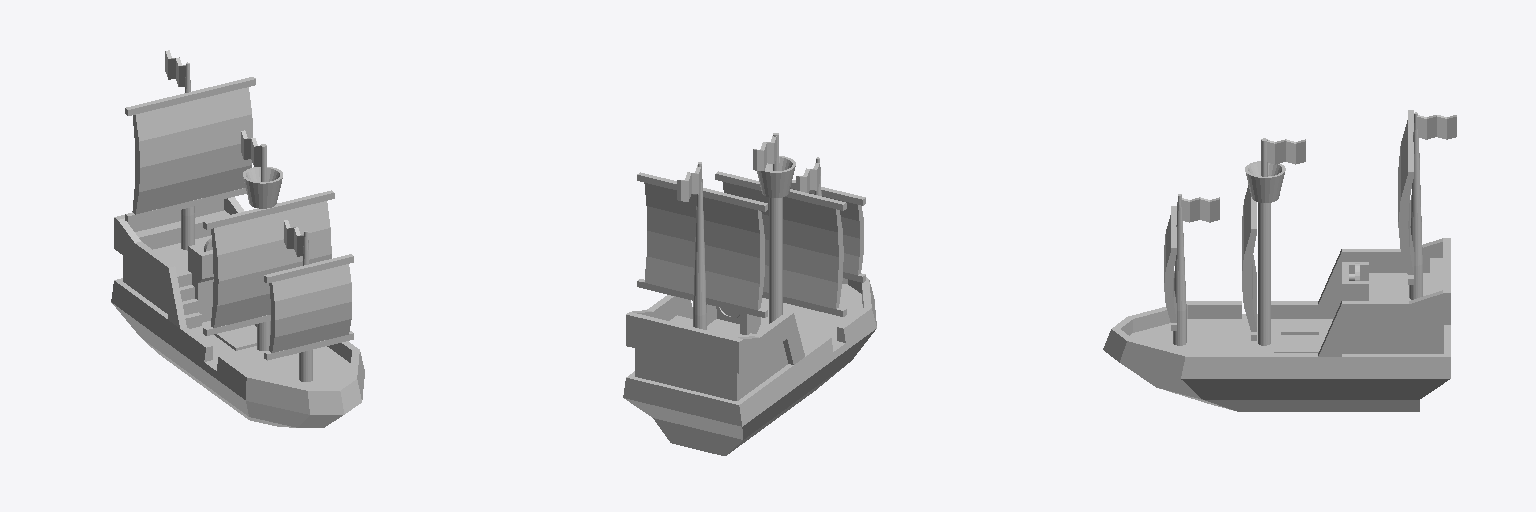
The model's file is boat_level6.obj.
3 views of the same model, side by side, from view 1: azimuth 30°, elevation 25°; view 2: azimuth 150°, elevation 25°; view 3: azimuth 270°, elevation 25° (orthographic).
Visible parts, largest first — view 1: Mesh22_Group12_Group1_Model, Mesh15_Group17_Group12_Group1_Model, Mesh12_Group14_Group12_Group1_Model, Mesh19_Group21_Group12_Group1_Model, Mesh16_Group18_Group12_Group1_Model, Mesh14_Group16_Group12_Group1_Model, Mesh20_Group22_Group12_Group1_Model, Mesh13_Group15_Group12_Group1_Model; view 2: Mesh22_Group12_Group1_Model, Mesh15_Group17_Group12_Group1_Model, Mesh12_Group14_Group12_Group1_Model, Mesh19_Group21_Group12_Group1_Model, Mesh13_Group15_Group12_Group1_Model, Mesh14_Group16_Group12_Group1_Model, Mesh16_Group18_Group12_Group1_Model, Mesh18_Group20_Group12_Group1_Model, Mesh17_Group19_Group12_Group1_Model; view 3: Mesh22_Group12_Group1_Model, Mesh13_Group15_Group12_Group1_Model, Mesh15_Group17_Group12_Group1_Model, Mesh12_Group14_Group12_Group1_Model, Mesh14_Group16_Group12_Group1_Model, Mesh20_Group22_Group12_Group1_Model, Mesh16_Group18_Group12_Group1_Model, Mesh19_Group21_Group12_Group1_Model, Mesh18_Group20_Group12_Group1_Model, Mesh17_Group19_Group12_Group1_Model, Mesh21_Group23_Group12_Group1_Model.
Part boxes in pixels (x1,y1,x2,y2): Mesh22_Group12_Group1_Model: (111, 197, 364, 427); Mesh15_Group17_Group12_Group1_Model: (125, 77, 255, 222); Mesh12_Group14_Group12_Group1_Model: (203, 190, 334, 335); Mesh19_Group21_Group12_Group1_Model: (264, 254, 353, 360); Mesh16_Group18_Group12_Group1_Model: (243, 167, 282, 208); Mesh14_Group16_Group12_Group1_Model: (181, 62, 194, 250); Mesh20_Group22_Group12_Group1_Model: (299, 231, 312, 381); Mesh13_Group15_Group12_Group1_Model: (257, 144, 270, 350); Mesh22_Group12_Group1_Model: (623, 277, 876, 455); Mesh15_Group17_Group12_Group1_Model: (637, 172, 767, 317); Mesh12_Group14_Group12_Group1_Model: (715, 171, 846, 316); Mesh19_Group21_Group12_Group1_Model: (790, 180, 865, 282); Mesh13_Group15_Group12_Group1_Model: (769, 133, 782, 323); Mesh14_Group16_Group12_Group1_Model: (693, 162, 706, 329); Mesh16_Group18_Group12_Group1_Model: (757, 156, 795, 197); Mesh18_Group20_Group12_Group1_Model: (677, 165, 701, 201); Mesh17_Group19_Group12_Group1_Model: (753, 136, 776, 170); Mesh22_Group12_Group1_Model: (1103, 238, 1450, 411); Mesh13_Group15_Group12_Group1_Model: (1258, 138, 1270, 345); Mesh15_Group17_Group12_Group1_Model: (1398, 110, 1413, 284); Mesh12_Group14_Group12_Group1_Model: (1242, 185, 1256, 340); Mesh14_Group16_Group12_Group1_Model: (1409, 112, 1422, 299); Mesh20_Group22_Group12_Group1_Model: (1173, 194, 1186, 345); Mesh16_Group18_Group12_Group1_Model: (1245, 161, 1285, 202); Mesh19_Group21_Group12_Group1_Model: (1164, 206, 1176, 330); Mesh18_Group20_Group12_Group1_Model: (1416, 115, 1456, 139); Mesh17_Group19_Group12_Group1_Model: (1267, 139, 1305, 164); Mesh21_Group23_Group12_Group1_Model: (1179, 197, 1219, 222).
Bounding box in the file's own units: 3.75 × 8.01 × 9.